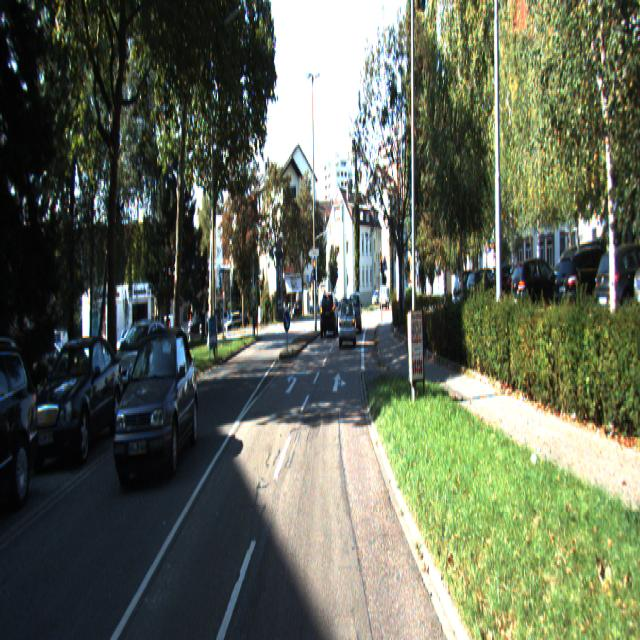Car: (114, 331, 198, 490), (29, 334, 124, 469), (0, 339, 44, 530), (109, 322, 174, 413), (321, 293, 338, 338), (339, 301, 355, 347)
DontCare: (454, 242, 639, 347), (216, 308, 240, 332), (371, 283, 389, 309), (288, 300, 306, 318)
